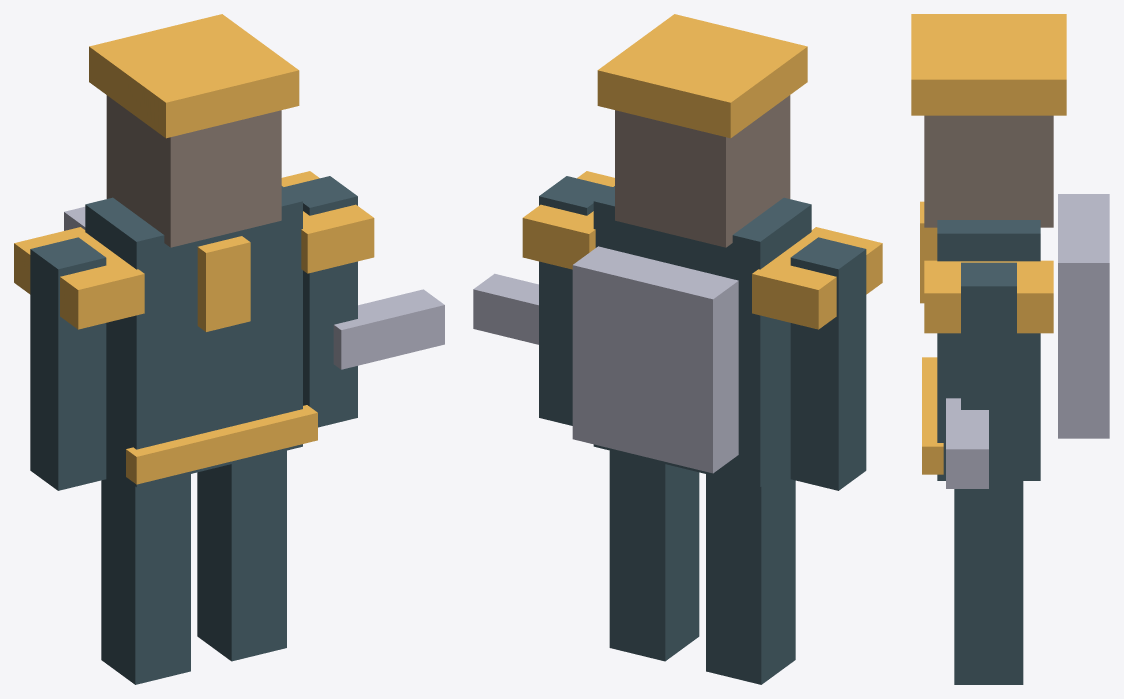
The model's file is 01_selka_emberkin_captain_under_prototype.glb.
3 renders of one model, left to right at view 1: azimuth 30°, elevation 25°; view 2: azimuth 150°, elevation 25°; view 3: azimuth 270°, elevation 25°, orthographic.
Parts seen in each view (by area): view 1: Selka Emberkin, Captain under Prototype; view 2: Selka Emberkin, Captain under Prototype; view 3: Selka Emberkin, Captain under Prototype.
Boxes of the visible parts, left/top/right/bottom form: Selka Emberkin, Captain under Prototype: left=14, top=14, right=444, bottom=684; Selka Emberkin, Captain under Prototype: left=473, top=14, right=882, bottom=684; Selka Emberkin, Captain under Prototype: left=911, top=14, right=1109, bottom=684.
Size of the model in its own units: 1.04 by 1.57 by 0.4688.
